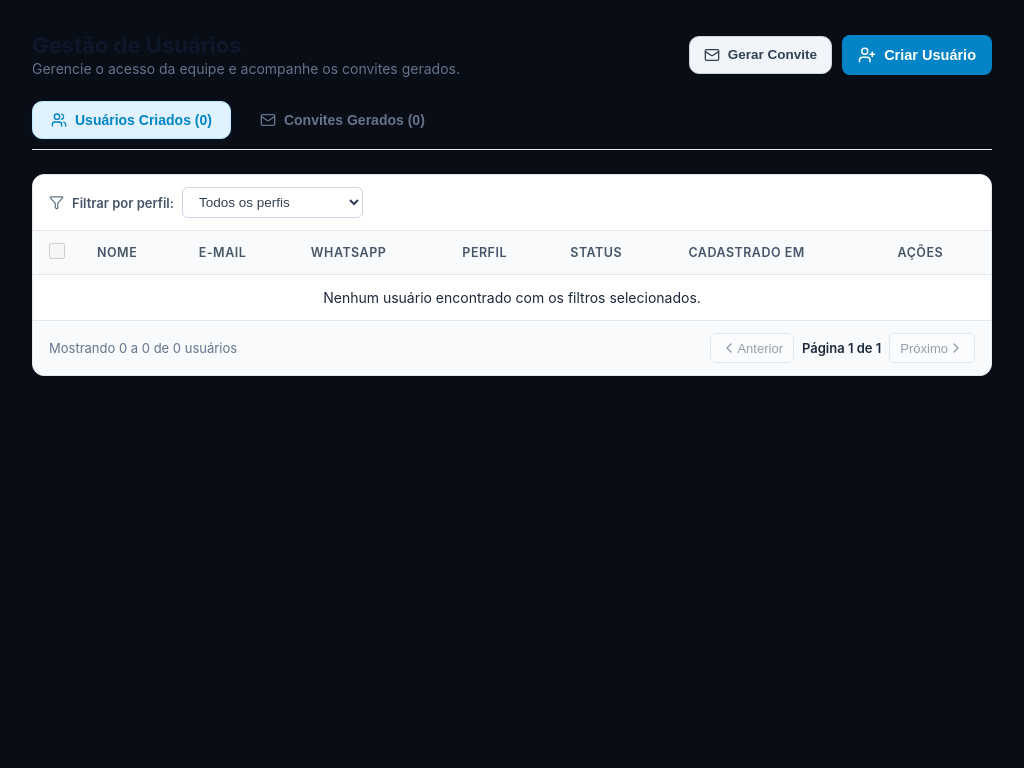
Test: UserManagement Component Tabs › opens CreateUserManualModal when "Criar Usuário" button is clicked
Step 1. Click the button with test id "open-create-user-modal-btn" → (917, 54), box [842,34,992,74]
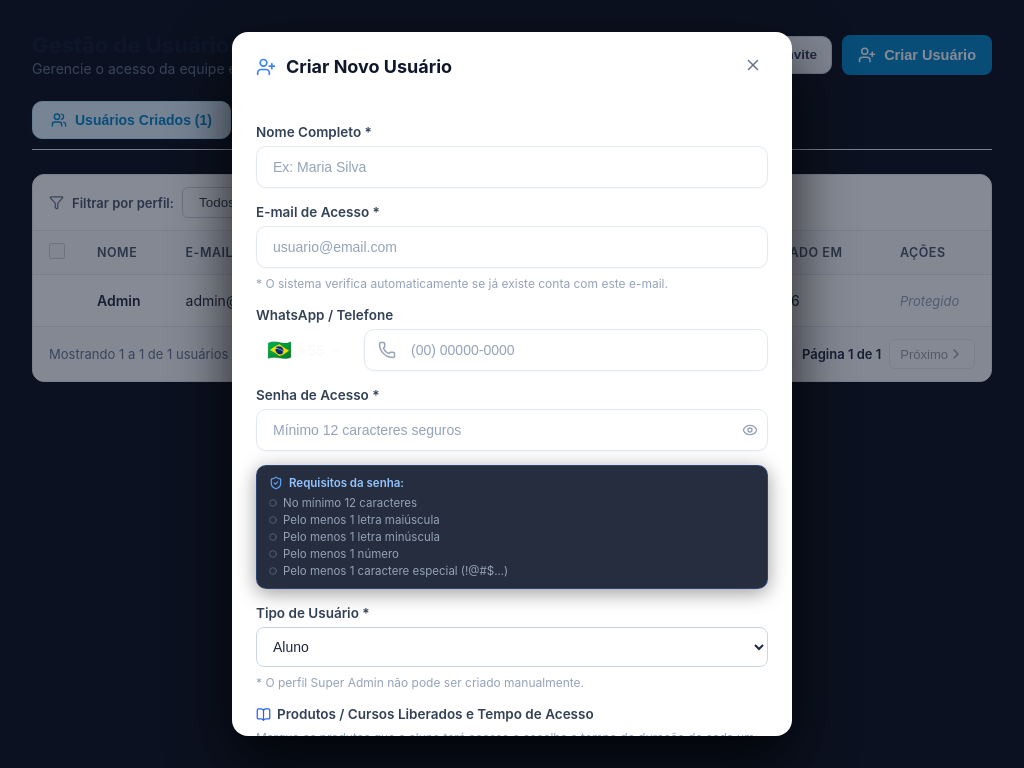
Check: the dialog with test id "create-user-manual-modal" is shown
Check: the heading "Criar Novo Usuário" is shown, box [286,56,452,77]
